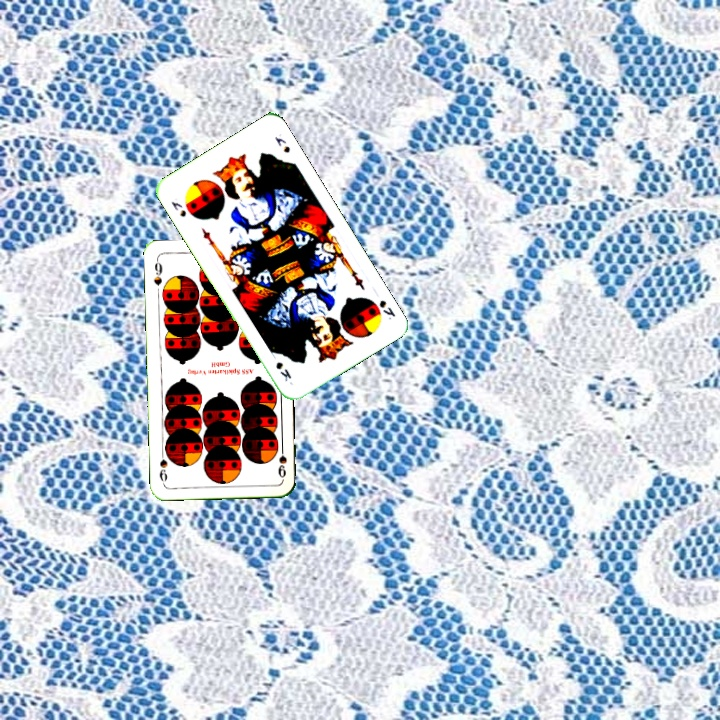S9: (274, 440, 289, 480), (149, 255, 165, 288)
SK: (375, 296, 398, 322), (167, 197, 189, 220)
